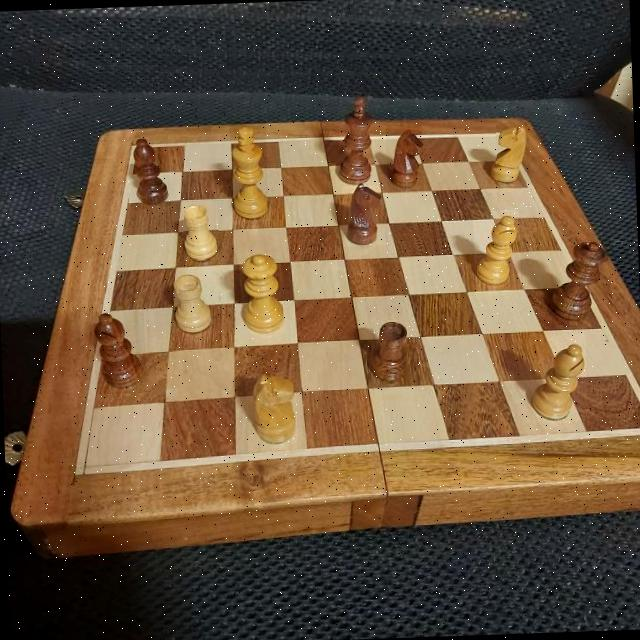black-camel: (92, 310, 146, 394), (128, 136, 170, 207)
black-elephant: (365, 314, 416, 388)
black-horse: (342, 185, 386, 246), (386, 124, 424, 194)
black-king: (336, 92, 380, 187)
black-queen: (550, 236, 612, 325)
white-camel: (529, 333, 588, 423), (472, 210, 522, 294)
white-elephant: (170, 272, 214, 334), (182, 201, 219, 260)
white-horse: (245, 372, 298, 451), (496, 122, 530, 185)
white-king: (228, 120, 268, 220)
white-queen: (238, 251, 286, 334)
